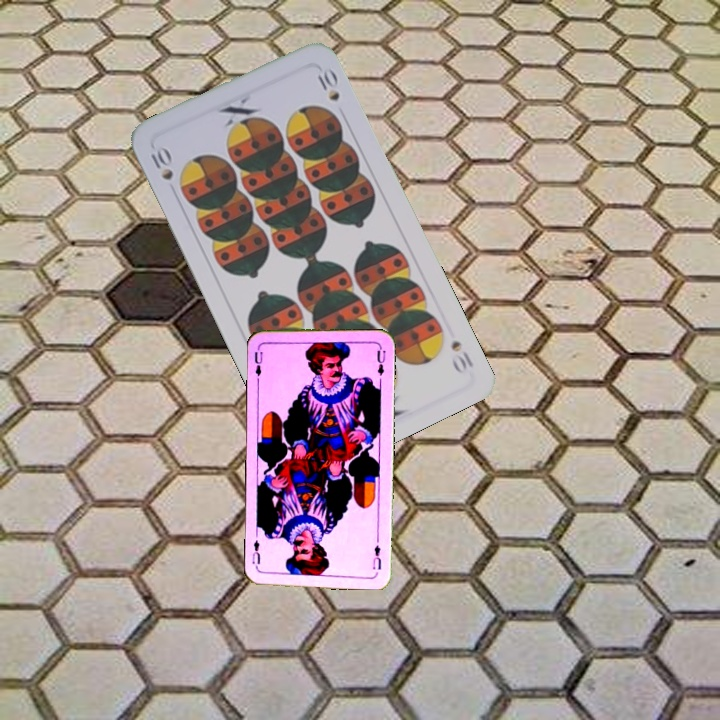EU: (251, 343, 265, 379), (369, 541, 383, 572)
S10: (146, 142, 176, 183), (447, 336, 476, 377)
